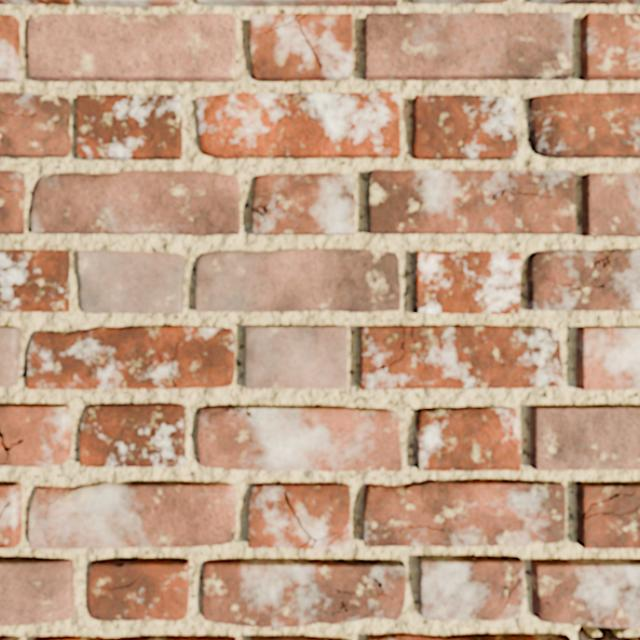brick: (28, 14, 236, 81), (365, 13, 572, 80), (202, 560, 404, 627), (29, 483, 235, 548), (197, 92, 399, 158), (33, 171, 239, 235), (364, 481, 565, 546), (199, 406, 401, 470), (370, 171, 575, 234), (27, 327, 234, 389), (361, 326, 563, 389), (197, 250, 400, 311), (529, 93, 639, 158), (533, 561, 639, 626), (532, 406, 639, 470), (251, 14, 352, 81), (77, 95, 182, 159), (413, 95, 517, 159), (80, 404, 185, 467), (527, 250, 639, 309), (419, 557, 523, 620), (415, 252, 520, 314), (249, 483, 349, 548), (417, 407, 520, 470), (79, 252, 184, 312), (245, 327, 347, 388), (253, 174, 355, 235), (89, 560, 188, 620), (0, 559, 73, 626), (0, 92, 70, 157), (0, 405, 71, 466), (0, 251, 68, 311), (578, 484, 639, 548), (581, 13, 639, 80), (578, 329, 639, 389), (582, 173, 639, 236), (0, 171, 23, 234), (0, 484, 21, 548), (0, 15, 19, 81), (197, 0, 398, 6), (0, 327, 20, 386), (367, 634, 569, 639), (79, 0, 181, 7), (37, 636, 236, 639), (528, 0, 639, 4), (413, 0, 508, 4), (0, 0, 70, 4), (252, 637, 344, 639), (585, 637, 639, 639), (0, 637, 21, 639), (304, 542, 311, 548)
crack: (264, 13, 323, 71), (283, 491, 336, 549), (582, 488, 639, 521), (376, 326, 406, 375), (155, 335, 181, 389), (251, 193, 286, 223), (496, 578, 524, 615), (577, 624, 639, 639), (411, 326, 429, 372), (0, 431, 25, 461), (211, 406, 254, 419), (0, 111, 38, 118), (619, 55, 639, 65), (0, 501, 11, 519), (377, 144, 400, 150), (0, 186, 13, 194), (0, 543, 8, 548)
